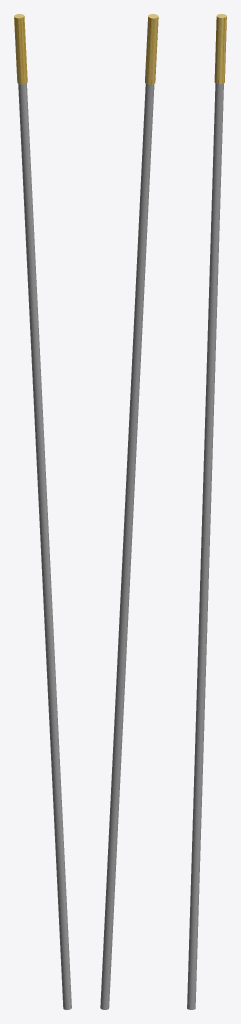
The model's file is yellow.glb.
3 renders of one model, left to right at view 1: azimuth 30°, elevation 25°; view 2: azimuth 210°, elevation 25°; view 3: azimuth 270°, elevation 25°, orthographic.
Visible parts, largest first — view 1: Electrode_2_Tip; view 2: Electrode_2_Tip; view 3: Electrode_2_Tip.
Part boxes in pixels (x1,y1,x2,y2): Electrode_2_Tip: [14, 14, 71, 1009]; Electrode_2_Tip: [100, 14, 158, 1009]; Electrode_2_Tip: [187, 14, 226, 1009].
Bounding box in the file's own units: 0.1634 × 3.75 × 0.1387.
2 materials, 2 textured.
